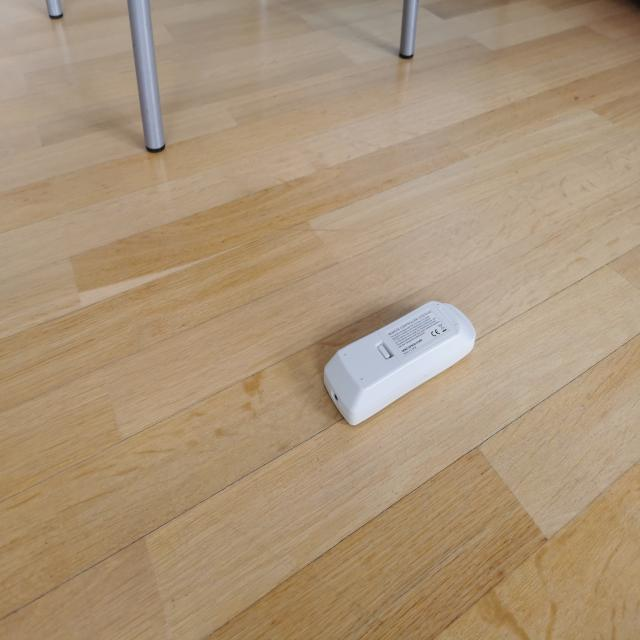remote: (322, 297, 478, 426)
